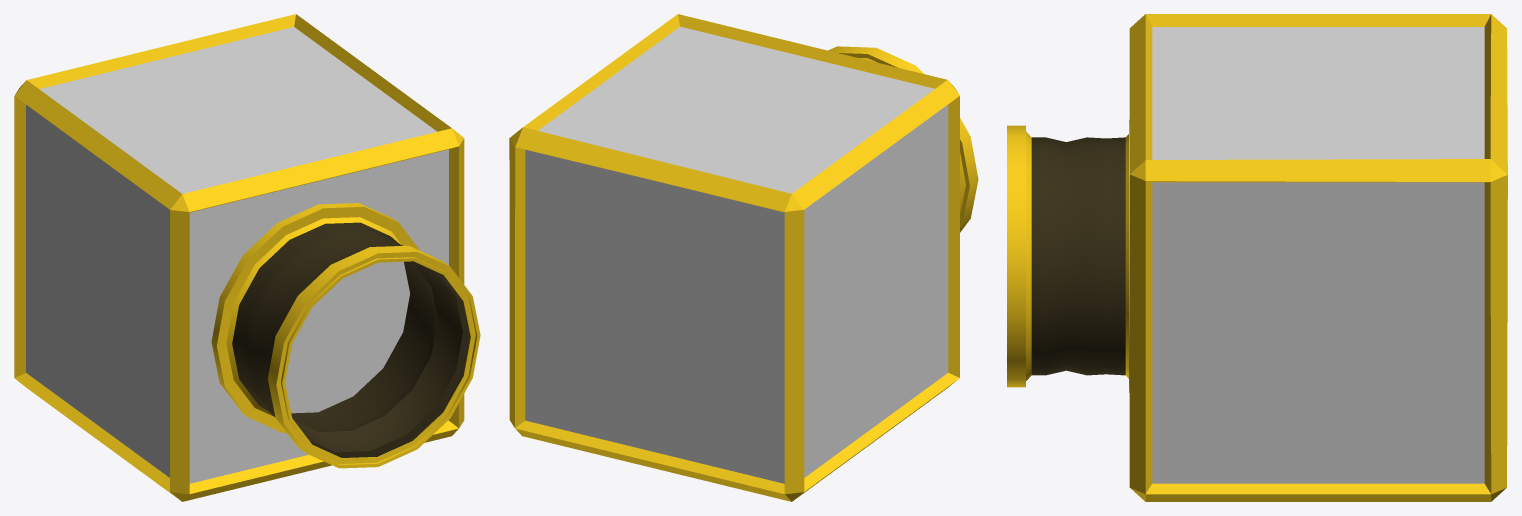
The picture shows the model from 3 angles, left to right: view 1: azimuth 30°, elevation 25°; view 2: azimuth 150°, elevation 25°; view 3: azimuth 270°, elevation 25°; orthographic projection. The views are drawn at different scales.
Visible parts, largest first — view 1: Cube; view 2: Cube; view 3: Cube.
Part boxes in pixels (<box>): Cube: <box>14,14,480,501</box>; Cube: <box>509,14,978,501</box>; Cube: <box>1007,14,1507,501</box>.
Bounding box in the file's own units: 317 × 317 × 420.
